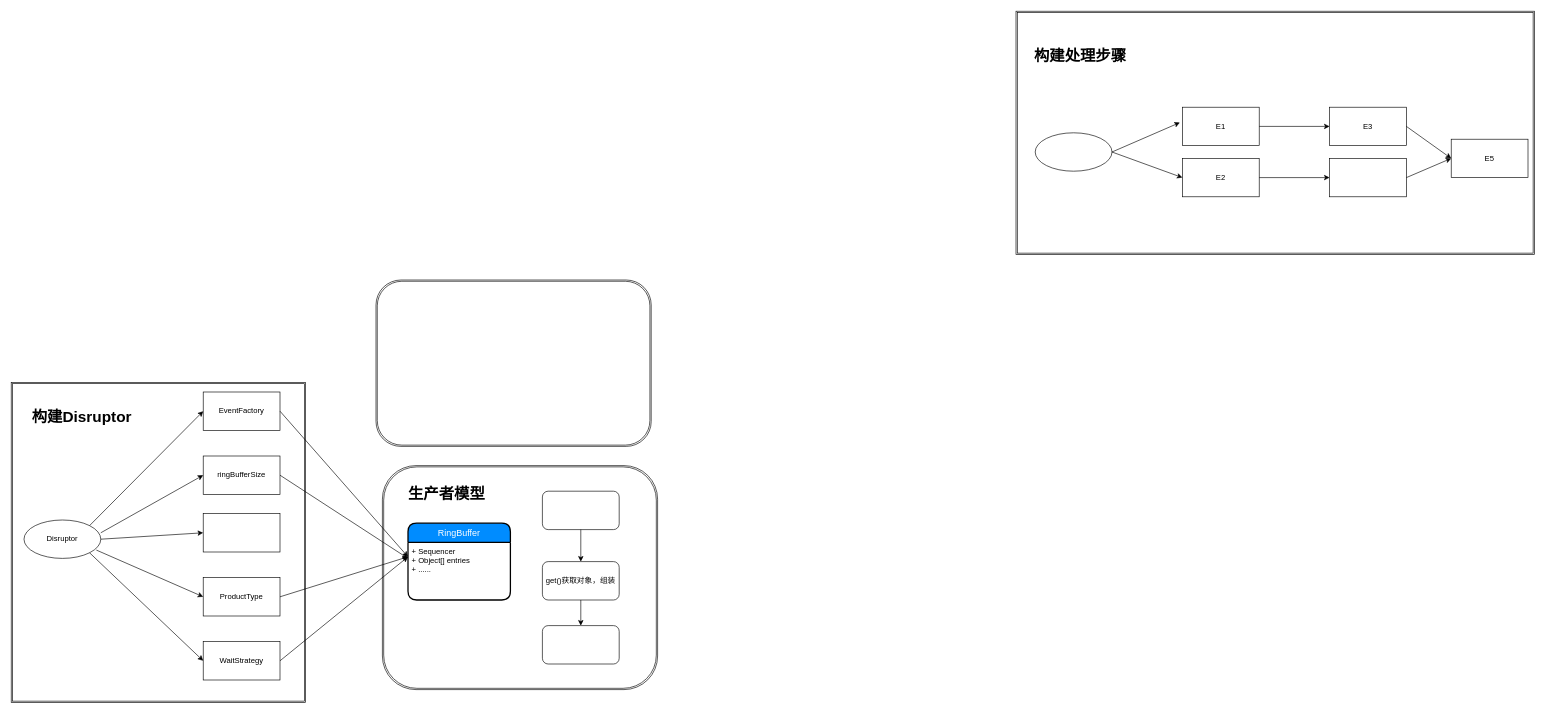
This 1546x714 diagram has some shape labels left out. Each missing label, with the centre of its shape:
"E4" belongs at pixel 1367 177.
"EventHandler" belongs at pixel 1073 151.
"Executor" belongs at pixel 241 532.
"next()获取序号" belongs at pixel 580 510.
"publish()发布" belongs at pixel 580 644.
